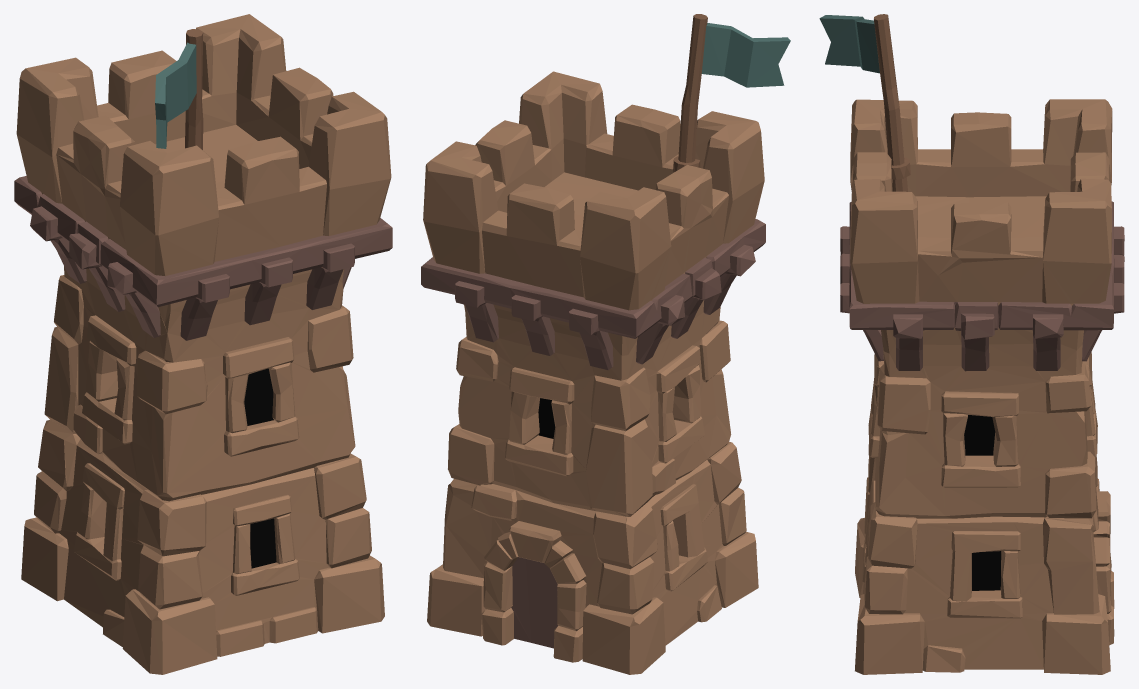
Rendered from CastleTower.fbx.
The picture shows the model from 3 angles, left to right: view 1: azimuth 30°, elevation 25°; view 2: azimuth 150°, elevation 25°; view 3: azimuth 270°, elevation 25°; orthographic projection. The views are drawn at different scales.
Parts seen in each view (by area): view 1: CastleTower_LOD0; view 2: CastleTower_LOD0; view 3: CastleTower_LOD0.
Part boxes in pixels (left/top/right/bottom): CastleTower_LOD0: left=14, top=14, right=392, bottom=674; CastleTower_LOD0: left=421, top=14, right=790, bottom=674; CastleTower_LOD0: left=819, top=14, right=1124, bottom=674.
Size of what is drawn, in the model's own units: 5.65 by 6.03 by 12.58.
